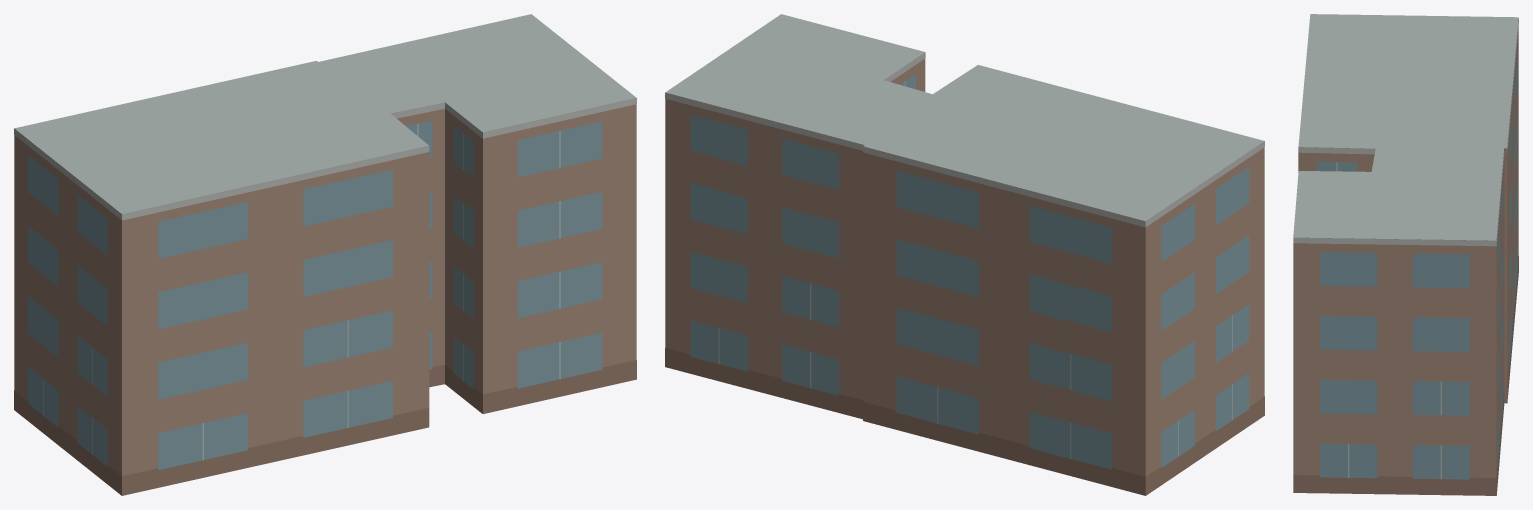
File: survey-upis-32653979.glb
3 renders of one model, left to right at view 1: azimuth 30°, elevation 25°; view 2: azimuth 150°, elevation 25°; view 3: azimuth 270°, elevation 25°, orthographic. The views are drawn at different scales.
Parts seen in each view (by area): view 1: survey-upis-32653979.tmp; view 2: survey-upis-32653979.tmp; view 3: survey-upis-32653979.tmp.
Part boxes in pixels (bbox=[...]): survey-upis-32653979.tmp: bbox=[14, 14, 636, 495]; survey-upis-32653979.tmp: bbox=[665, 14, 1264, 495]; survey-upis-32653979.tmp: bbox=[1293, 14, 1518, 495].
Bounding box in the file's own units: 20.75 × 10.9 × 8.74.
